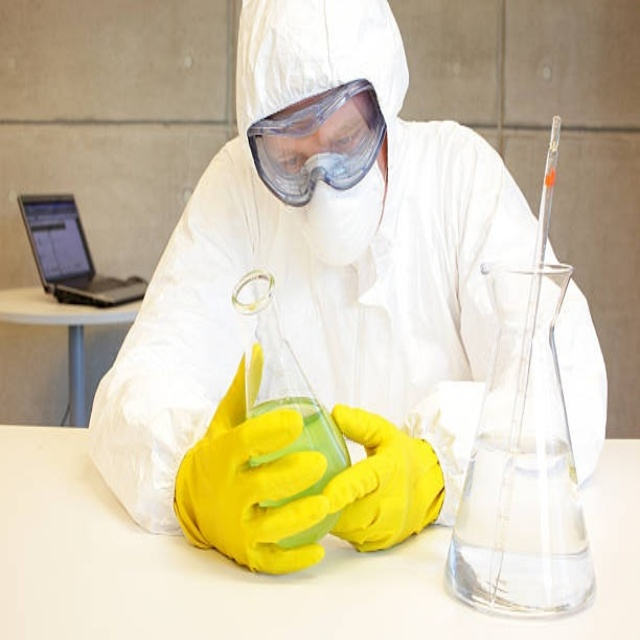Gafas: (247, 78, 387, 206)
Guantes: (174, 356, 348, 574), (322, 404, 443, 551)
Mascara: (275, 152, 388, 276)
